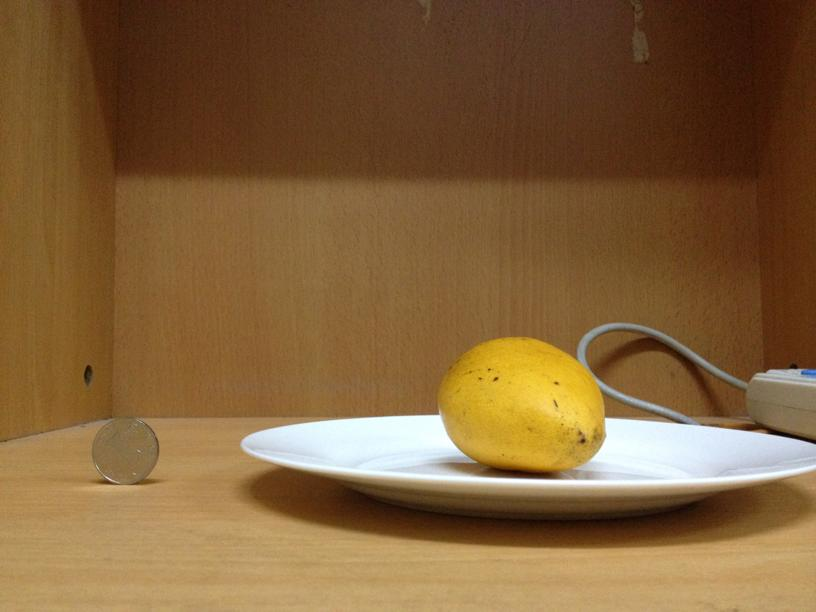coin: (88, 417, 168, 492)
mango: (441, 337, 606, 470)
